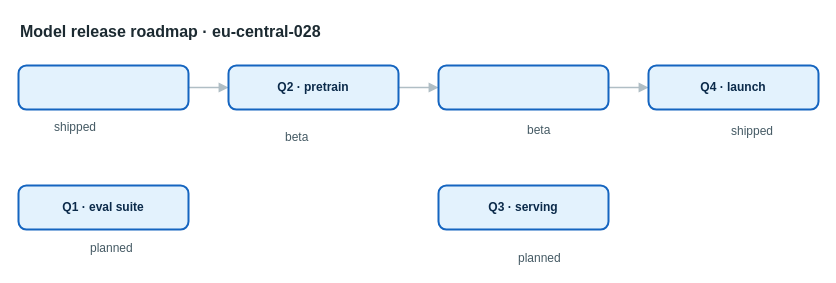
This 836x283 diagram has some shape labels left out. The centre of each missing label's shape, as x and y in pixels:
Q1 · data refresh: (103,87)
Q3 · alignment: (523,87)
